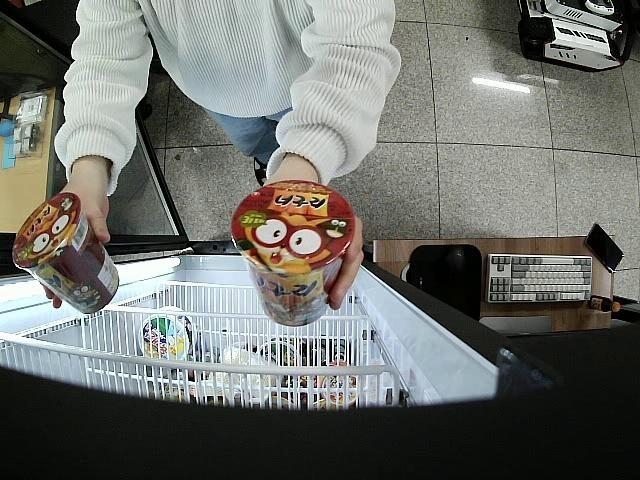06_nuguri_S: (232, 180, 355, 326), (12, 192, 120, 314)
